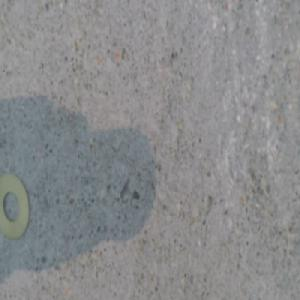Washer: (2, 172, 30, 237)
